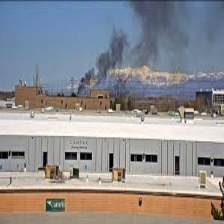smoke: (80, 5, 173, 94)
